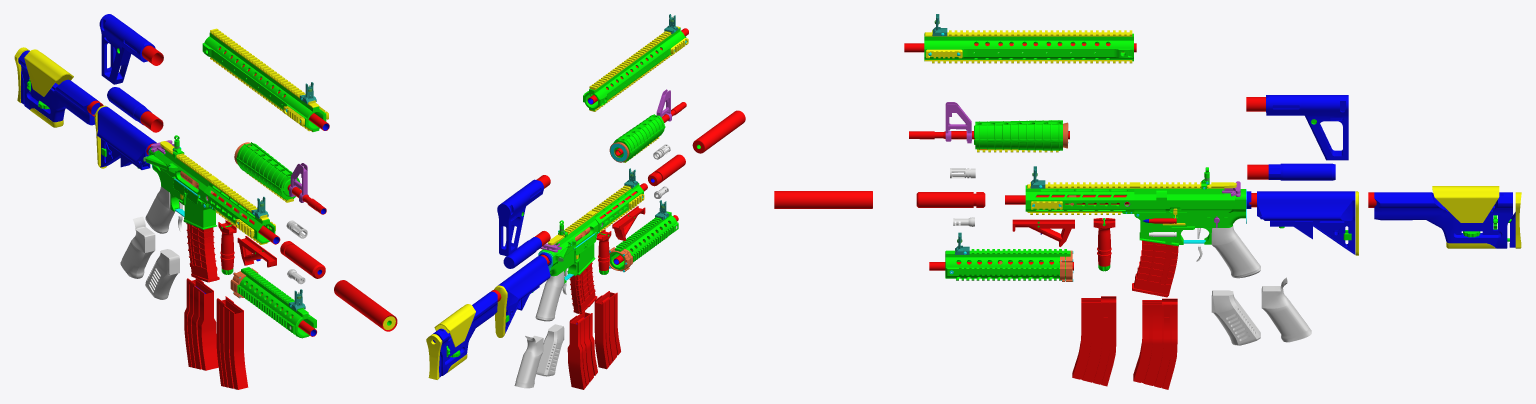
Rendered from M4-modular.fbx.
3 renders of one model, left to right at view 1: azimuth 30°, elevation 25°; view 2: azimuth 150°, elevation 25°; view 3: azimuth 270°, elevation 25°, orthographic. The views are drawn at different scales.
Visible parts, largest first — view 1: Handguard DMR, Stock DMR, MK 18 Circle Base.003, Magazine Large, Handguard Classic, Stock Classic, Handguard Kmode, Stock Light V, Magazine Default, Upper, Magazine Light, Lower (+8 smaller); view 2: Handguard DMR, Stock DMR, Stock Classic, MK 18 Circle Base.003, Handguard Classic, Magazine Large, Stock Light V, Magazine Default, Upper, Handguard Kmode, Lower, Grip Elvi (+8 smaller); view 3: Handguard DMR, Stock DMR, Stock Classic, MK 18 Circle Base.003, Handguard Classic, Handguard Kmode, Upper, Magazine Large, Magazine Default, Stock Light V, Lower, Magazine Light (+8 smaller).
Part boxes in pixels (x1,y1,x2,y2): Handguard DMR: (202, 28, 329, 131); Stock DMR: (14, 47, 103, 127); MK 18 Circle Base.003: (230, 267, 316, 338); Magazine Large: (184, 278, 218, 370); Handguard Classic: (234, 142, 326, 214); Stock Classic: (94, 105, 156, 169); Handguard Kmode: (203, 178, 280, 244); Stock Light V: (99, 14, 163, 84); Magazine Default: (216, 296, 248, 389); Upper: (143, 135, 216, 204); Magazine Light: (186, 223, 219, 282); Lower: (148, 147, 216, 229); Handguard DMR: (583, 14, 688, 111); Stock DMR: (426, 290, 501, 379); Stock Classic: (494, 254, 550, 337); MK 18 Circle Base.003: (609, 200, 678, 272); Handguard Classic: (609, 89, 686, 162); Magazine Large: (567, 311, 597, 389); Stock Light V: (497, 175, 550, 256); Magazine Default: (594, 291, 620, 369); Upper: (540, 211, 598, 263); Handguard Kmode: (590, 168, 647, 234); Lower: (538, 234, 596, 283); Grip Elvi: (514, 335, 543, 388); Handguard DMR: (904, 14, 1136, 63); Stock DMR: (1368, 186, 1521, 248); Stock Classic: (1249, 191, 1358, 255); MK 18 Circle Base.003: (929, 232, 1073, 281); Handguard Classic: (909, 102, 1069, 152); Handguard Kmode: (1005, 166, 1134, 214); Upper: (1128, 167, 1240, 212); Magazine Large: (1133, 298, 1177, 389); Magazine Default: (1072, 296, 1116, 386); Stock Light V: (1246, 95, 1348, 160); Lower: (1134, 189, 1251, 246); Magazine Light: (1132, 240, 1178, 297).
Size of the model in its own units: 9.36 by 81.91 by 150.
